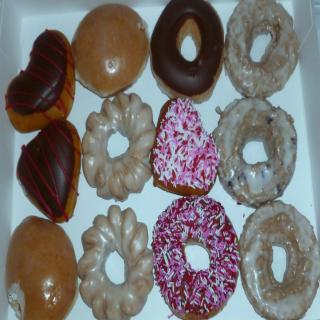Doughnut: (76, 0, 320, 320)
